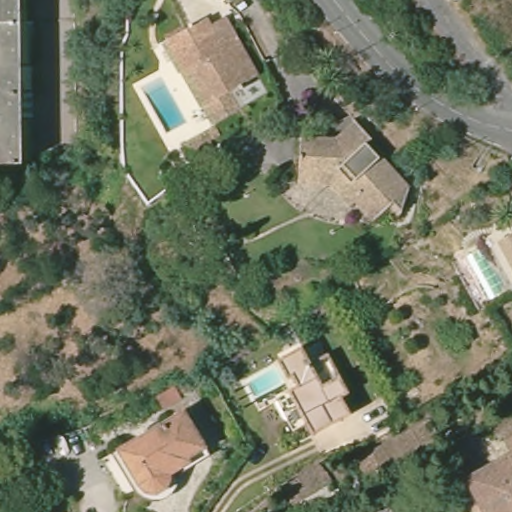pool: (465, 247, 510, 301), (144, 79, 188, 134), (247, 363, 287, 402)
